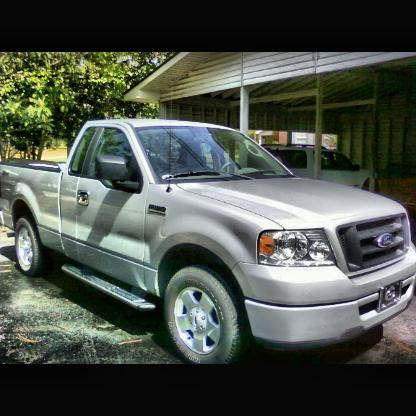Ford F-150 Regular Cab 2007: (2, 120, 416, 365)
